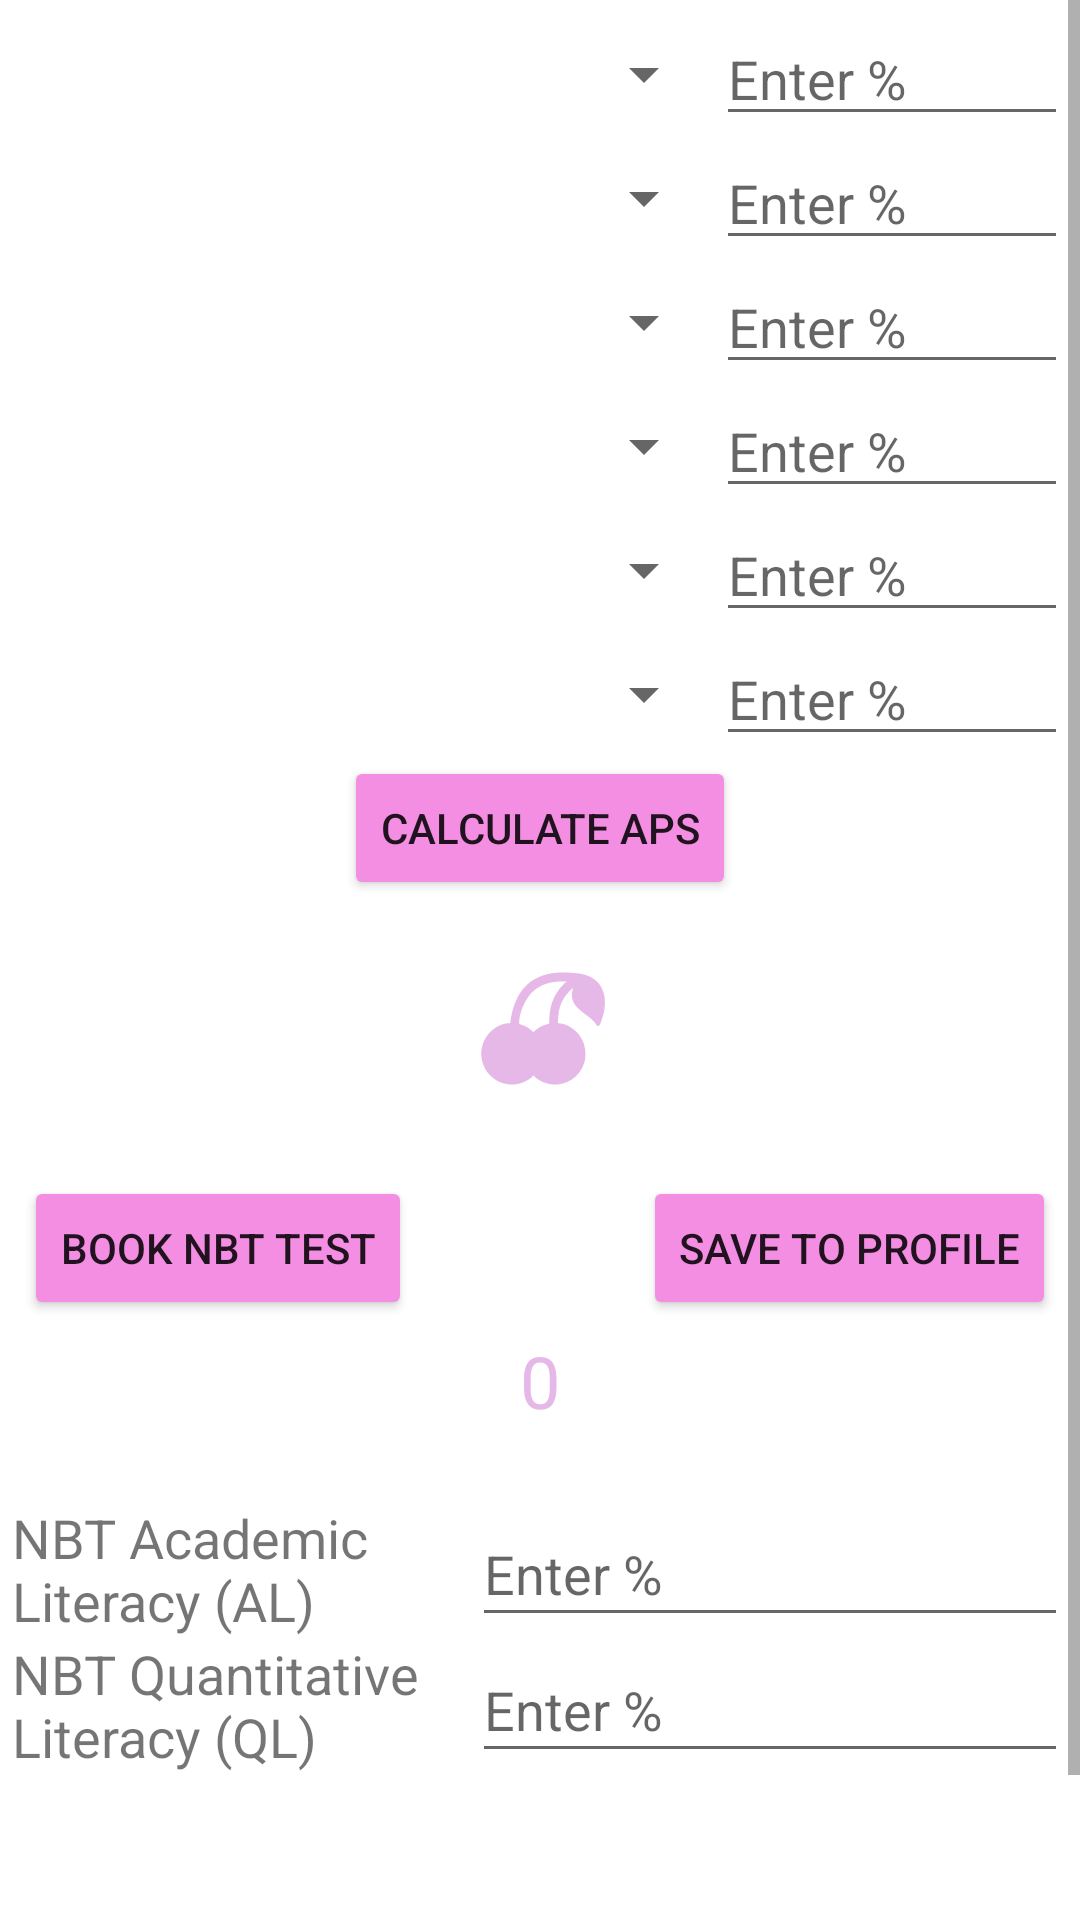

Icons on this 1080x1920 Android screen, each with its box as rect(x1, y1, x2, y2):
cherry: rect(481, 972, 605, 1085)
